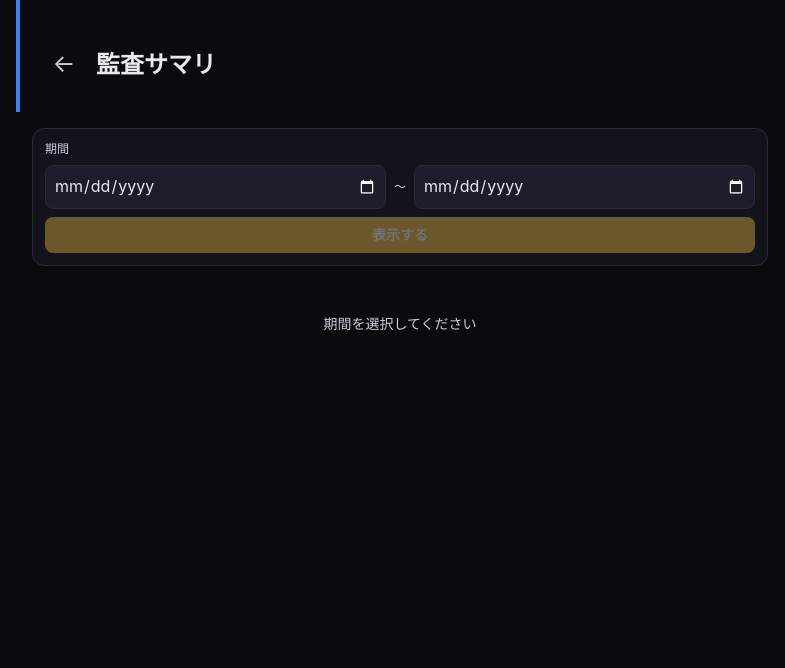
Test: AuditSummary 監査サマリ画面 › 集計件数が正しく表示される
Check: the text "監査サマリ" is shown, box x1=96 y1=48 x2=216 y2=80
Type "2026-03-01" into the 1st date field. click: (216, 187)
box: x1=45 y1=165 x2=386 y2=209
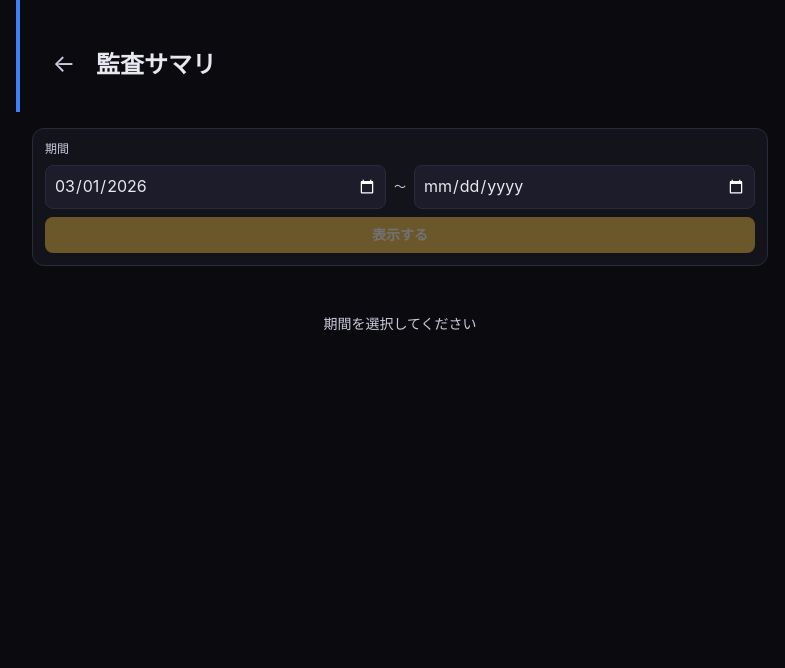
Type "2026-04-30" into the 2nd date field. click: (584, 187)
box: x1=414 y1=165 x2=755 y2=209
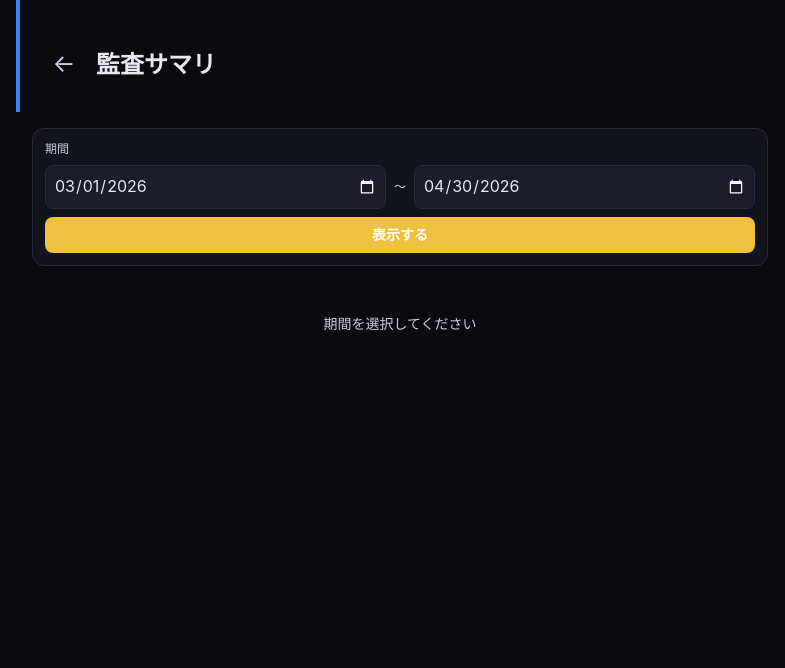
Check: the button "表示する" is enabled
// 「表示する」ボタンが有効になったのを確認してクリック
Click the button "表示する". click: (400, 235)
box: x1=45 y1=217 x2=755 y2=253
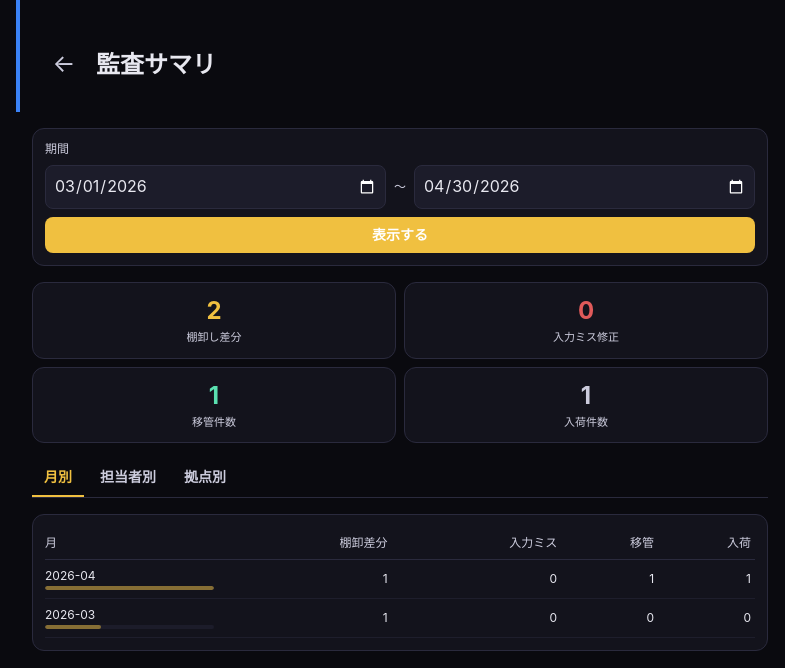
Check: the text "棚卸し差分" is shown, box x1=186 y1=330 x2=242 y2=344
